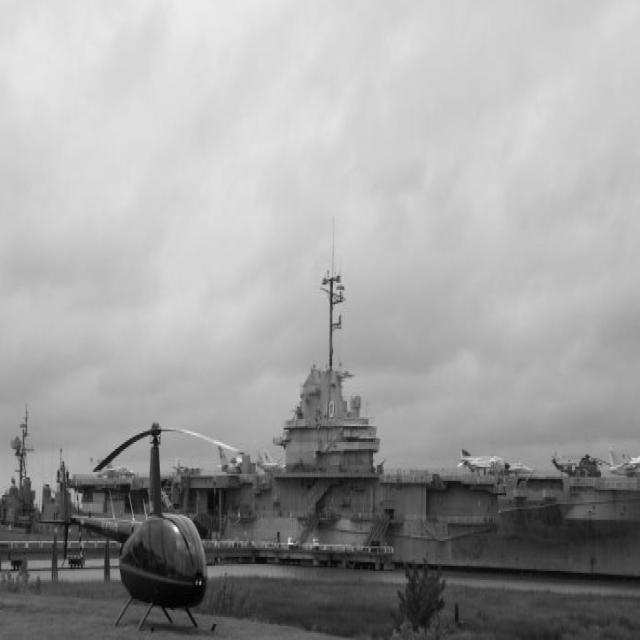Portanaves: (88, 254, 640, 602)
